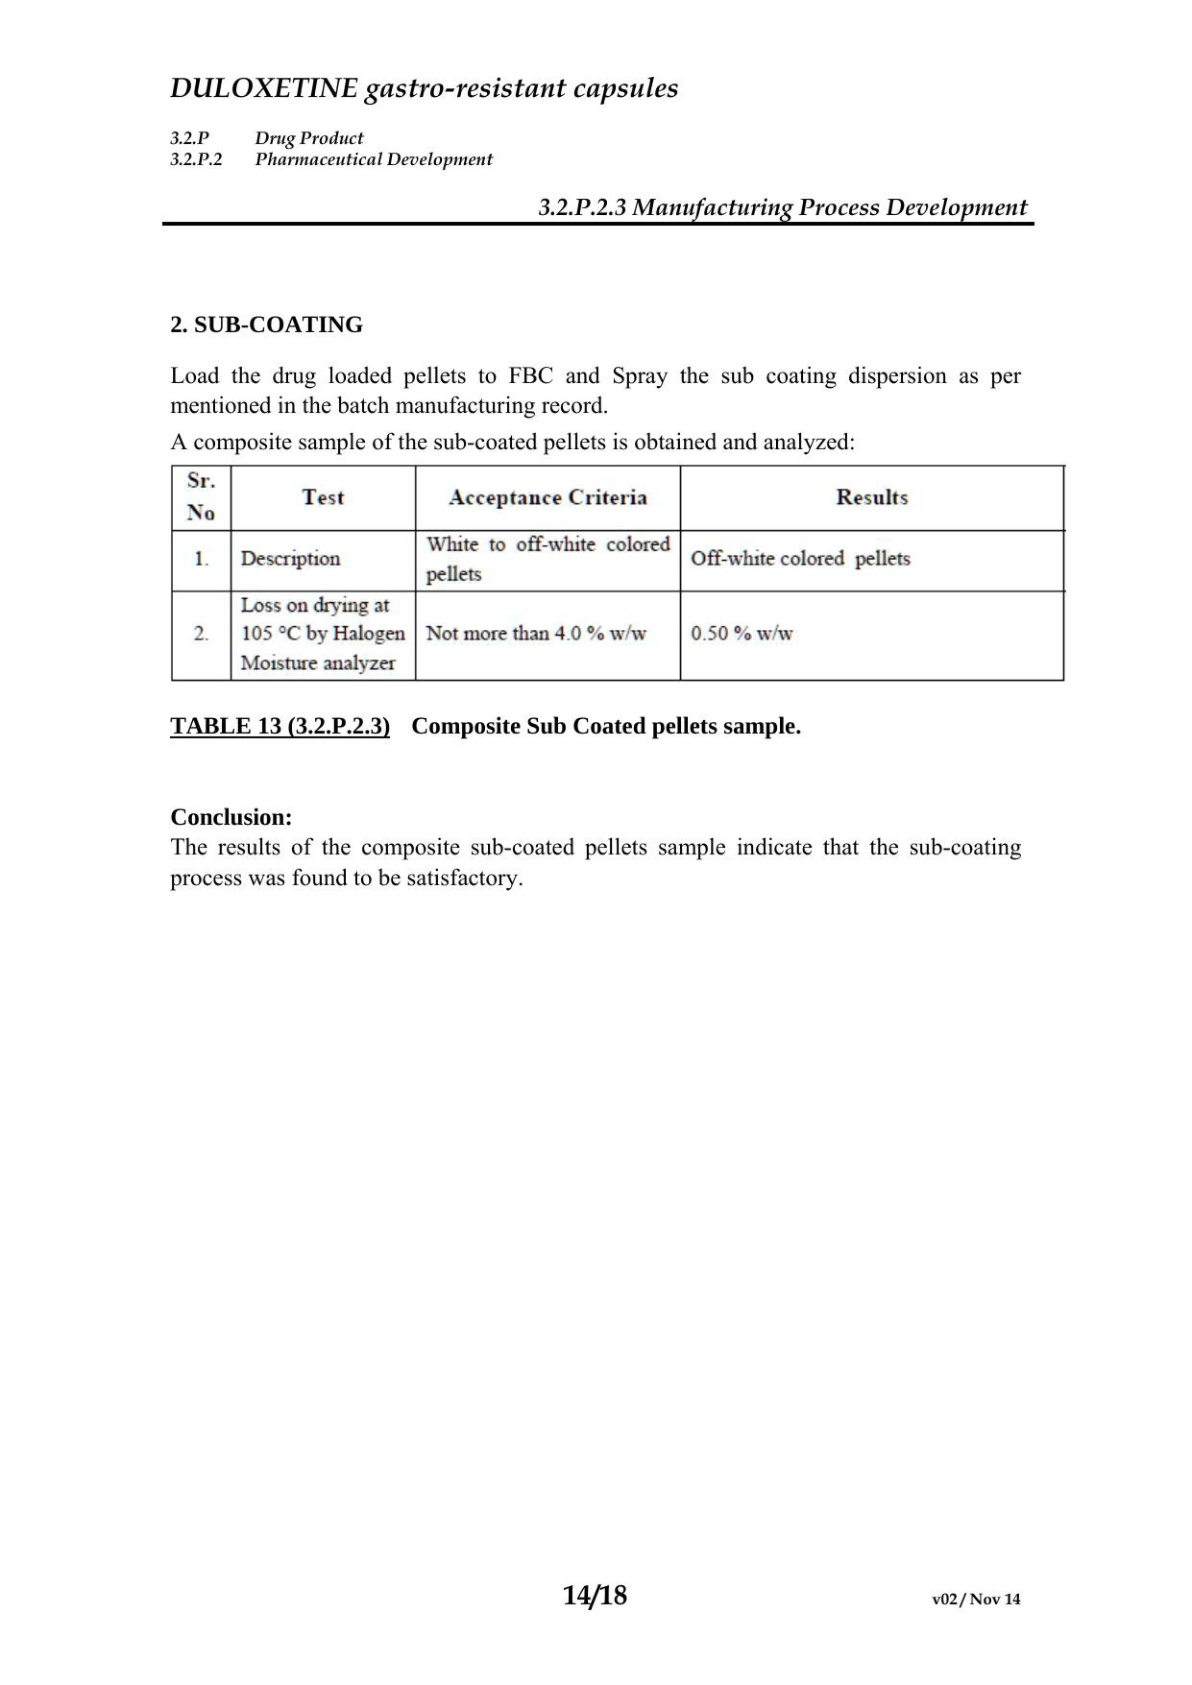full_lined: (170, 464, 1066, 683)
